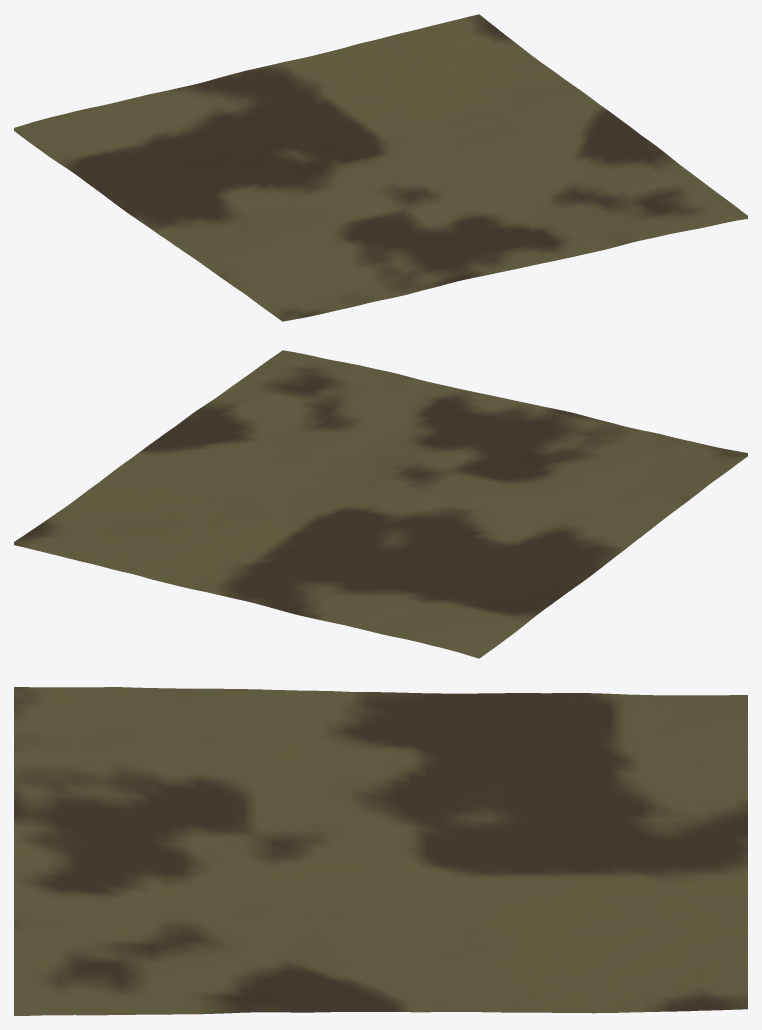
The model's file is land_m_04_11.glb.
The picture shows the model from 3 angles, top to bottom: view 1: azimuth 30°, elevation 25°; view 2: azimuth 150°, elevation 25°; view 3: azimuth 270°, elevation 25°; orthographic projection. The views are drawn at different scales.
Parts seen in each view (by area): view 1: land_m_04_11; view 2: land_m_04_11; view 3: land_m_04_11.
Boxes of the visible parts, x1,y1,x2,y2 form: land_m_04_11: [14, 14, 747, 321]; land_m_04_11: [14, 350, 747, 658]; land_m_04_11: [14, 687, 747, 1015].
Bounding box in the file's own units: 960 × 26.99 × 960.
